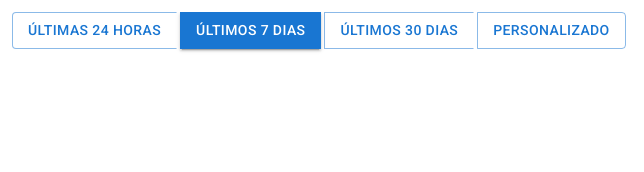
Test: shows all period labels in Portuguese
Expected: the element named "Período do histórico" is shown, [12,12,626,48]
Expected: the button "Últimas 24 horas" is shown, [12,12,177,48]
Click the button "Personalizado": (551, 30) [477,12,626,48]
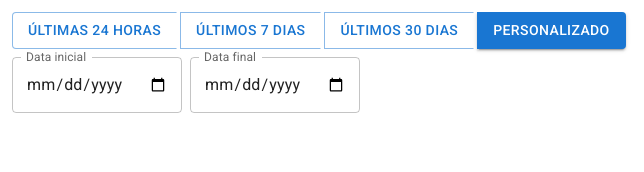
In the date field labelled "Data inicial": (97, 84) [12,56,182,112], type "2026-03-08"
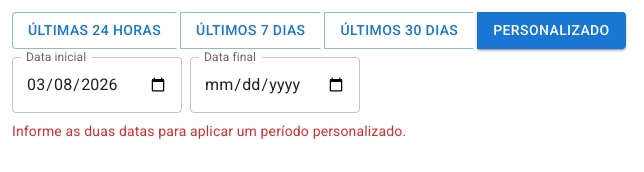
Now the date field labelled "Data final" is shown, box [190,56,360,112]
Now the message shows "Informe as duas datas", box [12,122,406,138]
